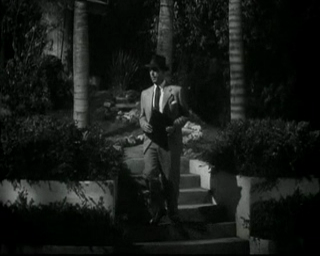face: (149, 68, 161, 82)
ls: (1, 1, 320, 256)
person: (139, 55, 191, 225)
